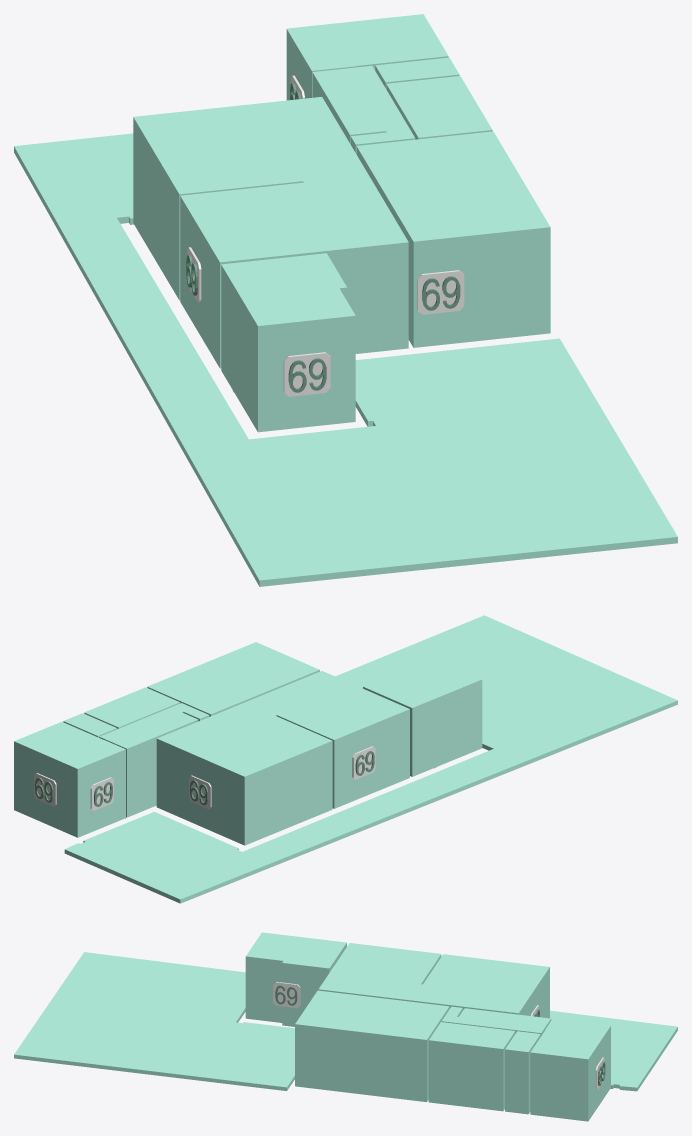
3 renders of one model, top to bottom at view 1: azimuth 30°, elevation 25°; view 2: azimuth 150°, elevation 25°; view 3: azimuth 270°, elevation 25°, orthographic. The views are drawn at different scales.
Parts seen in each view (by area): view 1: g_10, g_2, g_1, g_0, g_7, g_8, g_9, g_3, g_6, g_4, g_5, g_22 (+1 smaller); view 2: g_10, g_0, g_1, g_9, g_3, g_7, g_8, g_2, g_6, g_4, g_5, g_28 (+1 smaller); view 3: g_10, g_2, g_3, g_4, g_0, g_7, g_1, g_9, g_5, g_6, g_19.
Part boxes in pixels (x1=…): g_10: x1=183, y1=338, x2=677, y2=586; g_2: x1=356, y1=131, x2=550, y2=347; g_1: x1=180, y1=174, x2=408, y2=368; g_0: x1=133, y1=97, x2=367, y2=300; g_7: x1=221, y1=253, x2=355, y2=432; g_8: x1=58, y1=218, x2=248, y2=451; g_9: x1=14, y1=133, x2=133, y2=229; g_3: x1=286, y1=14, x2=448, y2=100; g_6: x1=312, y1=65, x2=415, y2=153; g_4: x1=386, y1=76, x2=492, y2=139; g_5: x1=375, y1=57, x2=459, y2=88; g_22: x1=283, y1=352, x2=330, y2=396; g_10: x1=335, y1=615, x2=677, y2=765; g_0: x1=156, y1=702, x2=332, y2=845; g_1: x1=245, y1=671, x2=409, y2=808; g_9: x1=64, y1=811, x2=269, y2=903; g_3: x1=14, y1=721, x2=125, y2=837; g_7: x1=363, y1=659, x2=482, y2=776; g_8: x1=242, y1=749, x2=524, y2=867; g_2: x1=147, y1=642, x2=319, y2=716; g_6: x1=99, y1=703, x2=209, y2=817; g_4: x1=84, y1=687, x2=180, y2=728; g_5: x1=63, y1=713, x2=117, y2=737; g_28: x1=352, y1=746, x2=375, y2=779; g_10: x1=14, y1=952, x2=294, y2=1090; g_2: x1=295, y1=990, x2=449, y2=1102; g_3: x1=530, y1=1018, x2=610, y2=1121; g_4: x1=428, y1=1022, x2=515, y2=1111; g_0: x1=412, y1=954, x2=549, y2=1018; g_7: x1=245, y1=932, x2=346, y2=1026; g_1: x1=318, y1=943, x2=441, y2=1001; g_9: x1=567, y1=1013, x2=677, y2=1091; g_5: x1=505, y1=1031, x2=540, y2=1114; g_6: x1=441, y1=1006, x2=551, y2=1036; g_19: x1=273, y1=981, x2=300, y2=1008.
Bounding box in the file's own units: 14.55 × 2.65 × 24.02.
